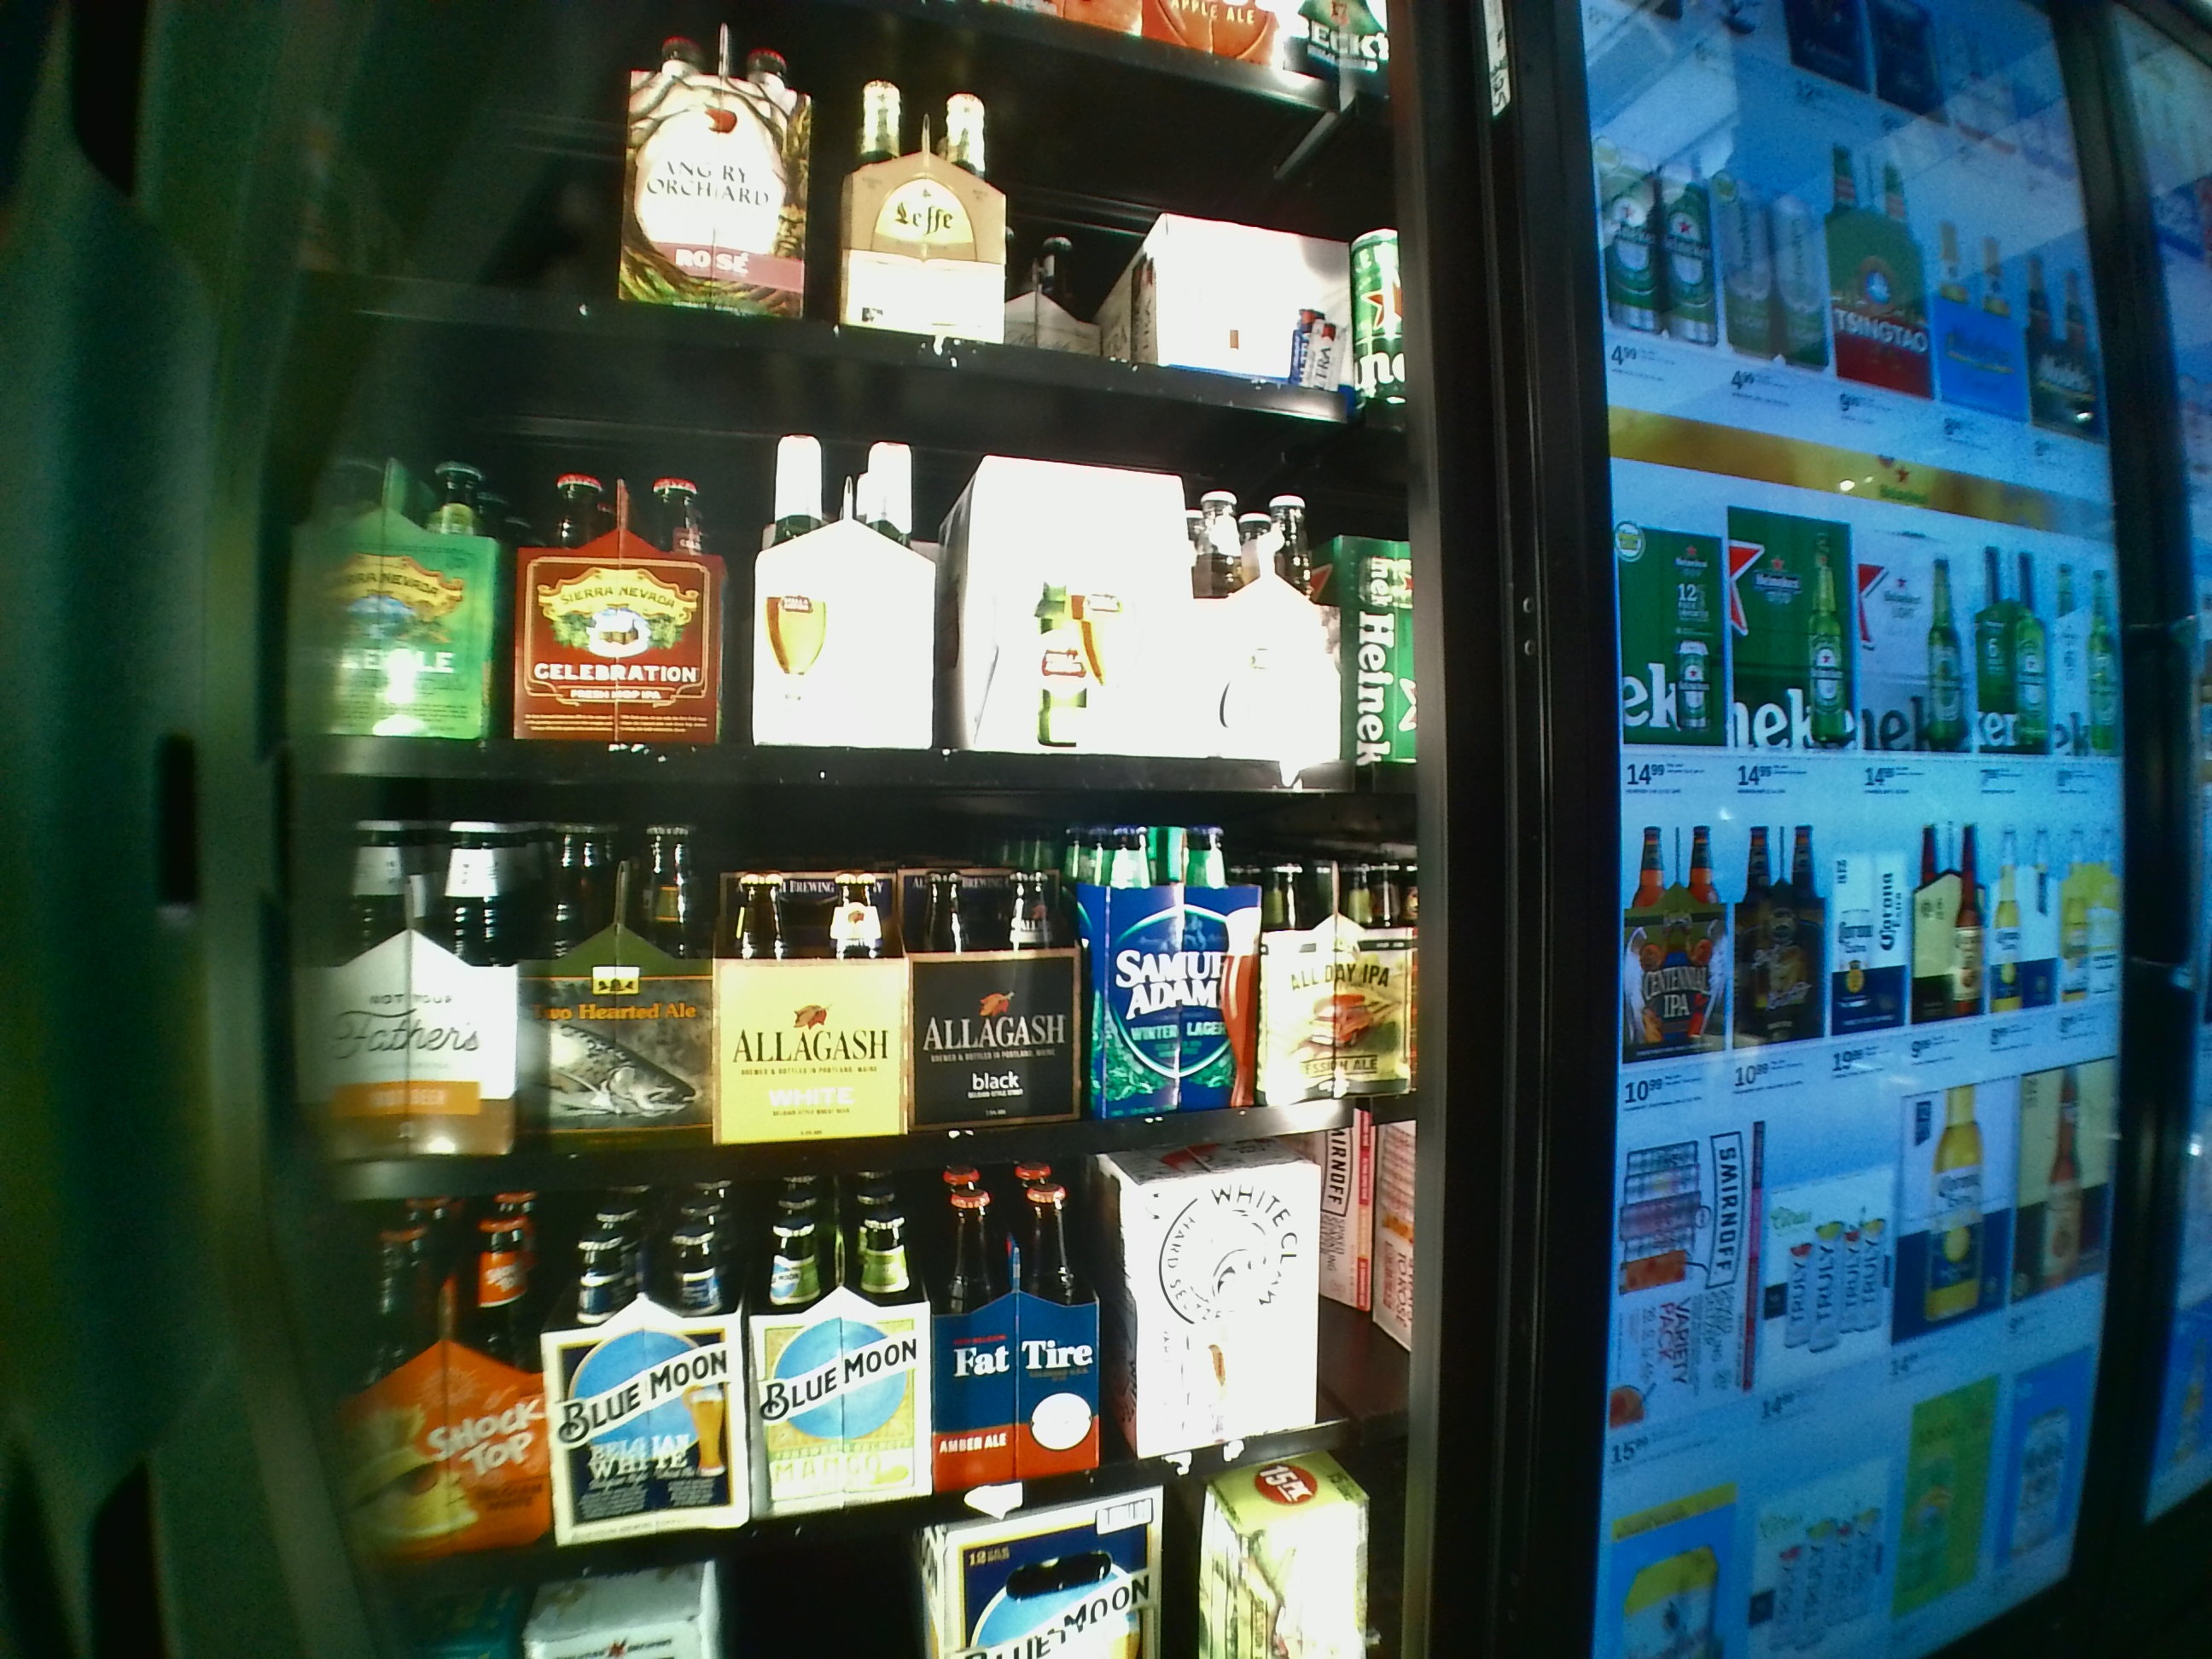shelf: (265, 328, 1411, 796), (270, 812, 1418, 1208)
